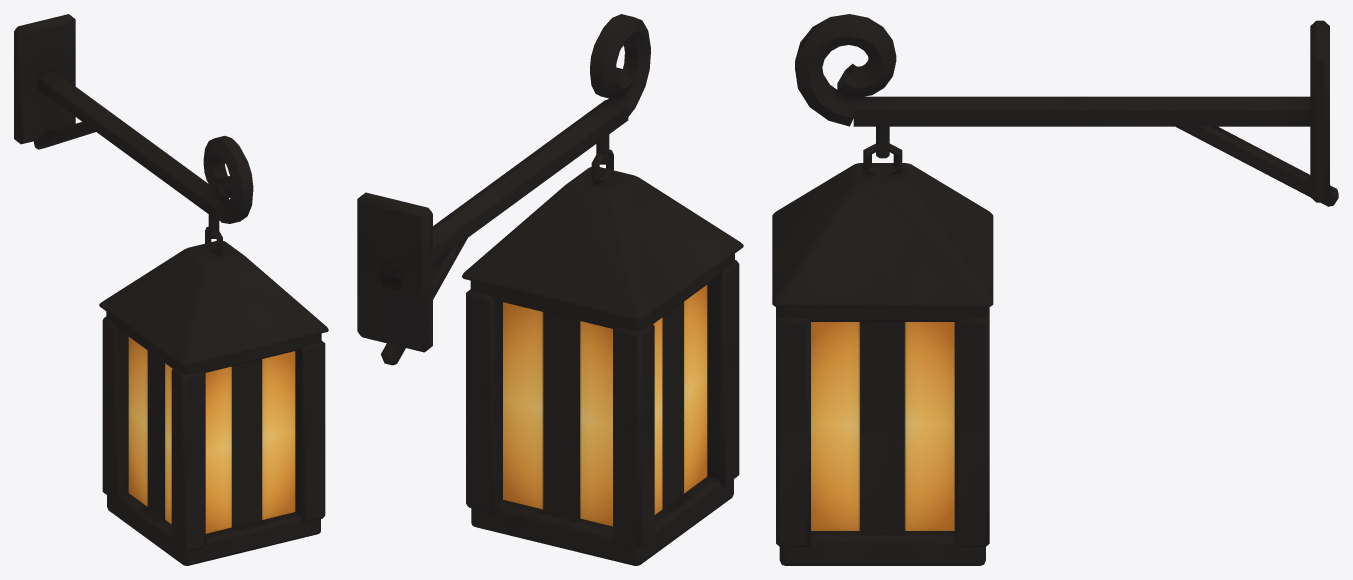
The model's file is wall_lantern.glb.
The picture shows the model from 3 angles, left to right: view 1: azimuth 30°, elevation 25°; view 2: azimuth 150°, elevation 25°; view 3: azimuth 270°, elevation 25°; orthographic projection. The views are drawn at different scales.
Parts seen in each view (by area): view 1: wall_lantern; view 2: wall_lantern; view 3: wall_lantern.
Part boxes in pixels (bbox=[...]): wall_lantern: bbox=[14, 14, 328, 565]; wall_lantern: bbox=[357, 14, 743, 565]; wall_lantern: bbox=[772, 14, 1338, 565].
Size of the model in its own units: 0.2275 by 0.5921 by 0.5829.
1 material, 1 textured.
